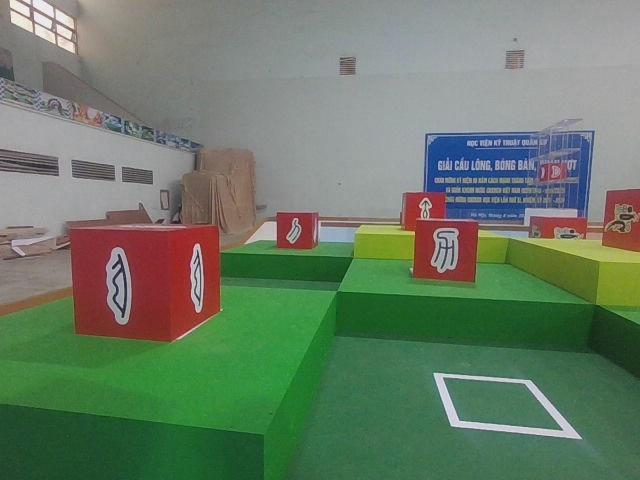R1: (599, 184, 640, 256)
R2 Fake: (408, 215, 482, 286)
R2 Real: (67, 219, 225, 346), (400, 188, 449, 235), (274, 209, 320, 252)
